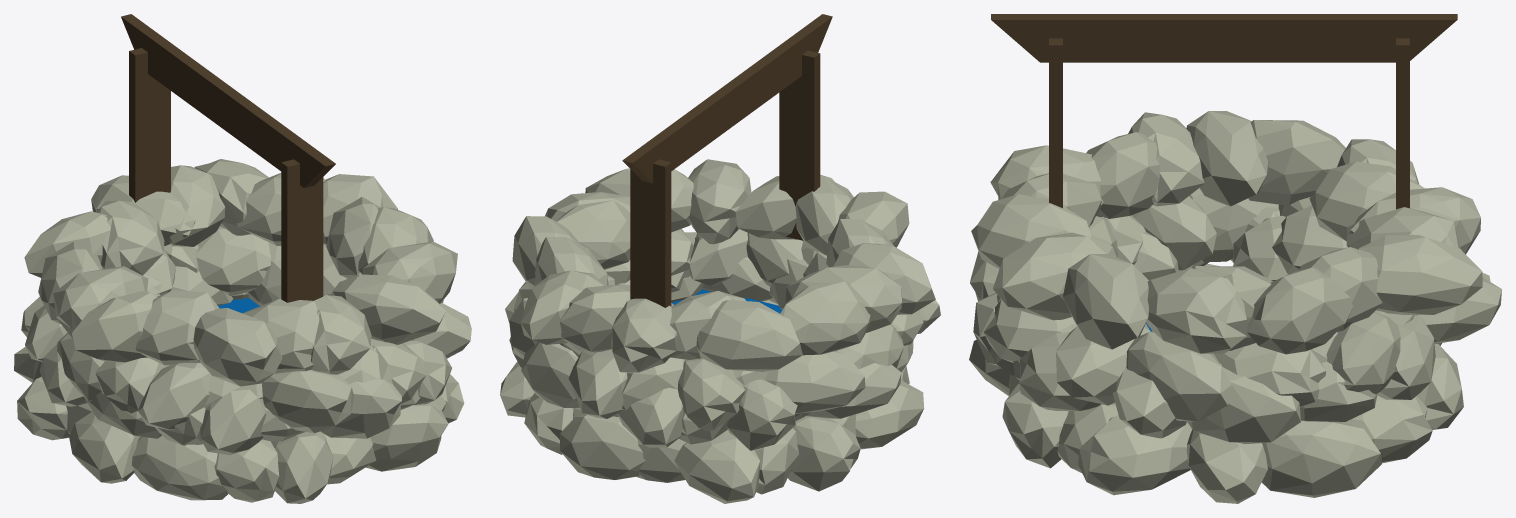
Rendered from Pit.fbx.
3 renders of one model, left to right at view 1: azimuth 30°, elevation 25°; view 2: azimuth 150°, elevation 25°; view 3: azimuth 270°, elevation 25°, orthographic. The views are drawn at different scales.
Visible parts, largest first — view 1: Sphere.043; view 2: Sphere.043; view 3: Sphere.043.
Boxes of the visible parts, x1,y1,x2,y2 form: Sphere.043: (14,14,471,503); Sphere.043: (500,14,940,503); Sphere.043: (969,14,1501,503).
Bounding box in the file's own units: 167 × 139 × 170.
3 materials, 3 textured.
